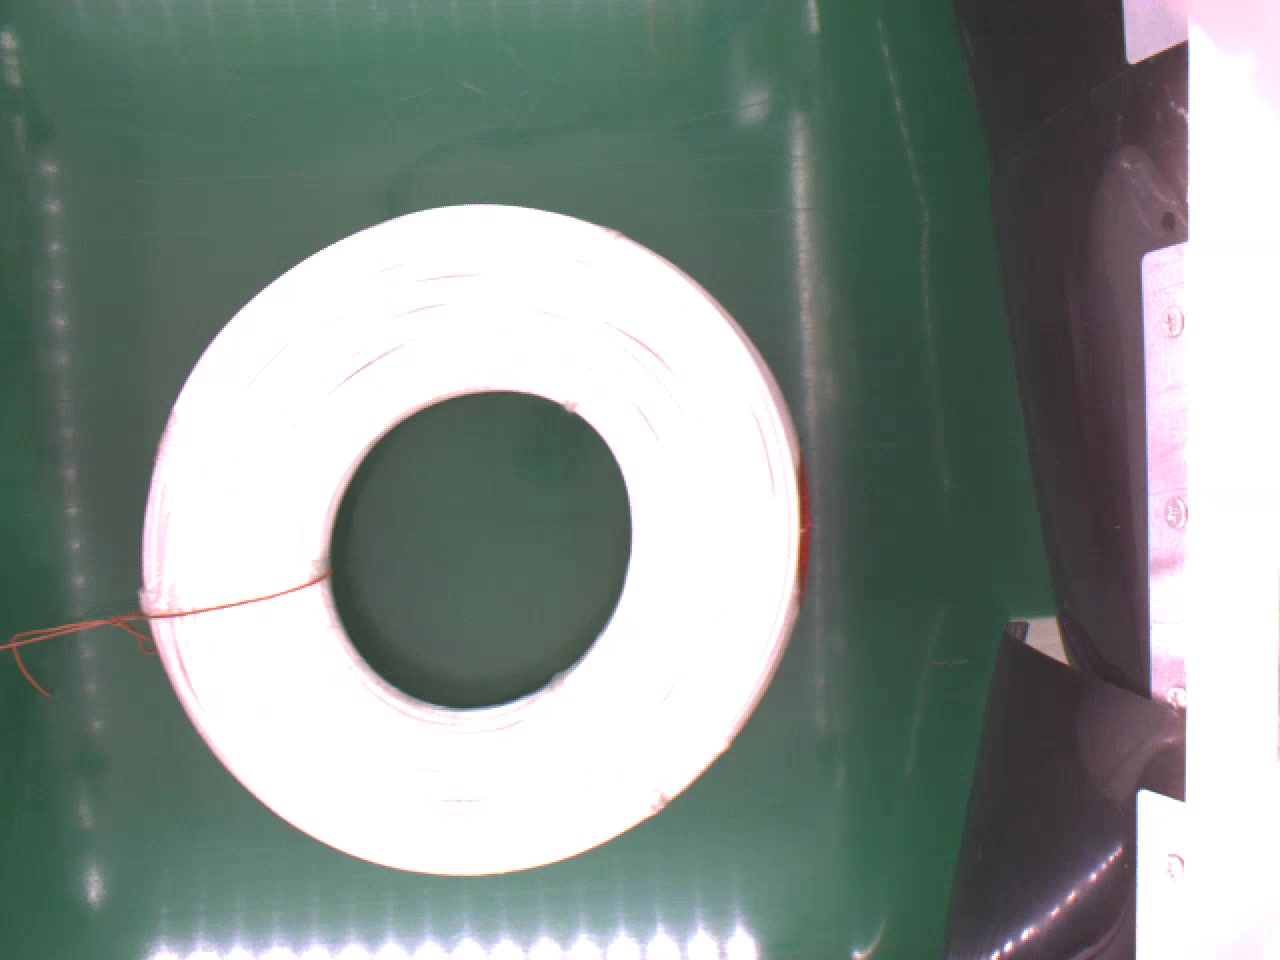white: (137, 199, 823, 886)
